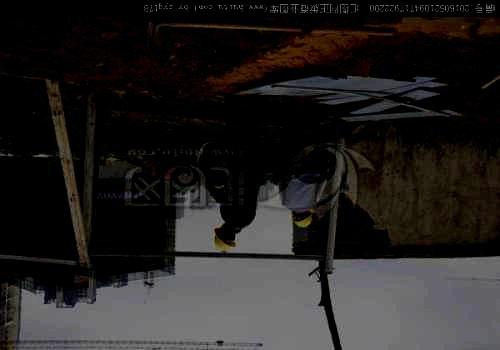helmet: (213, 222, 237, 252), (293, 210, 312, 228)
